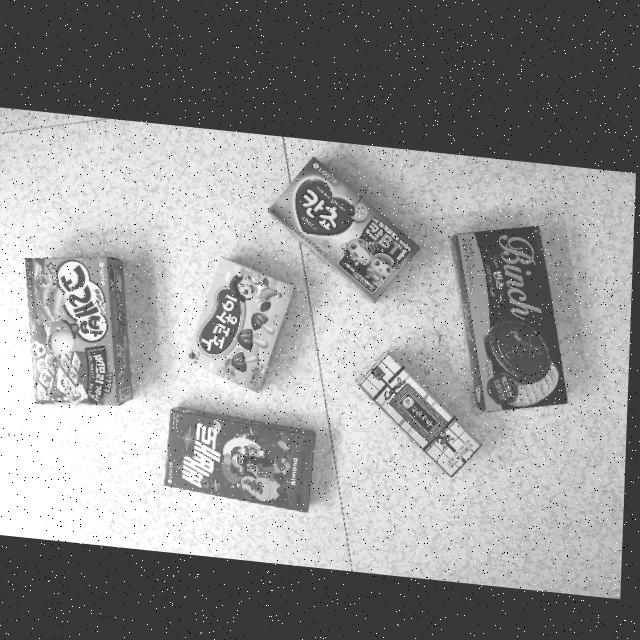box: (270, 149, 422, 293), (453, 214, 570, 401), (26, 254, 135, 404), (360, 345, 485, 468), (168, 405, 318, 506), (187, 252, 296, 387)
